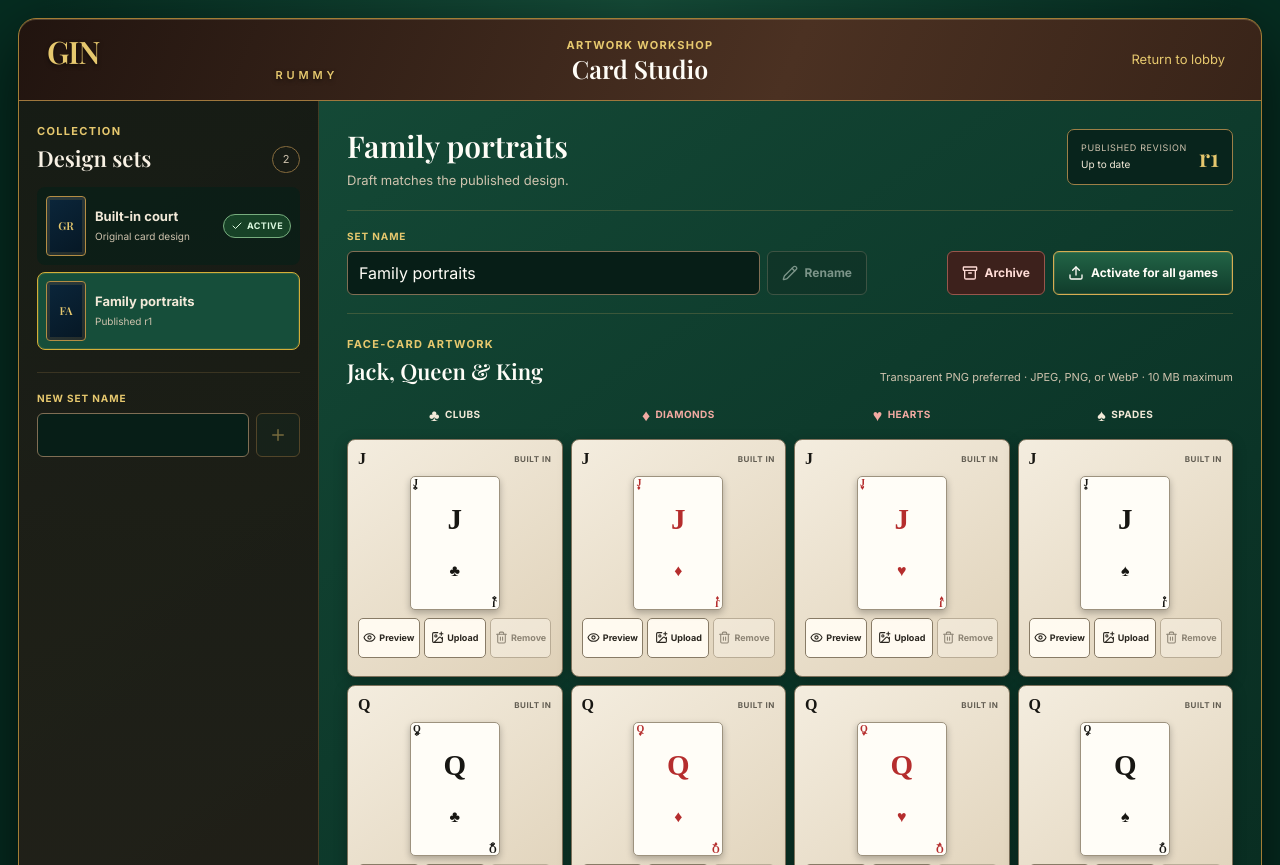
Test: CardStudio › keeps a failed create value available and succeeds on retry
Type "Sunday table" into the field labelled "New set name" at (143, 434), box [37,412,249,456]
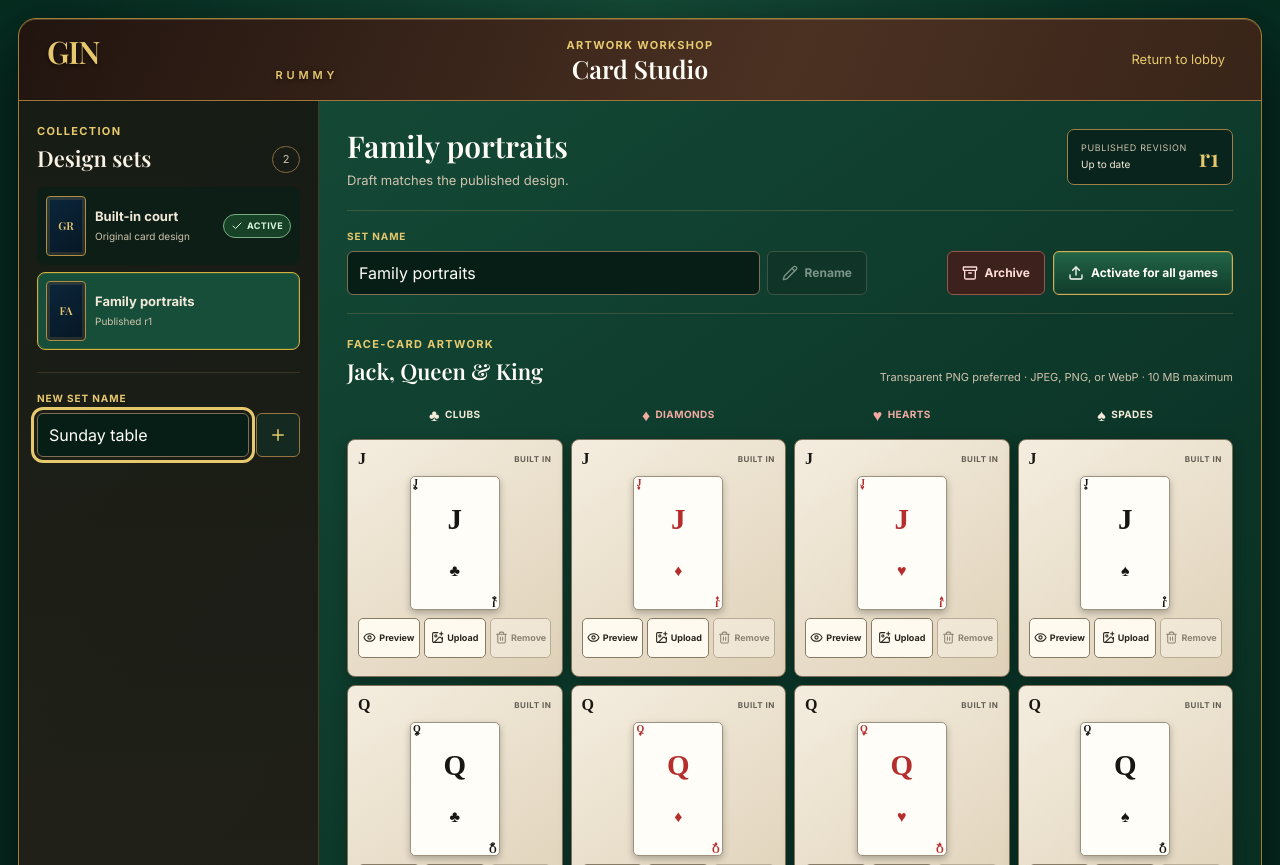
Click the button named "Create set" at (278, 434), box [256,412,300,456]
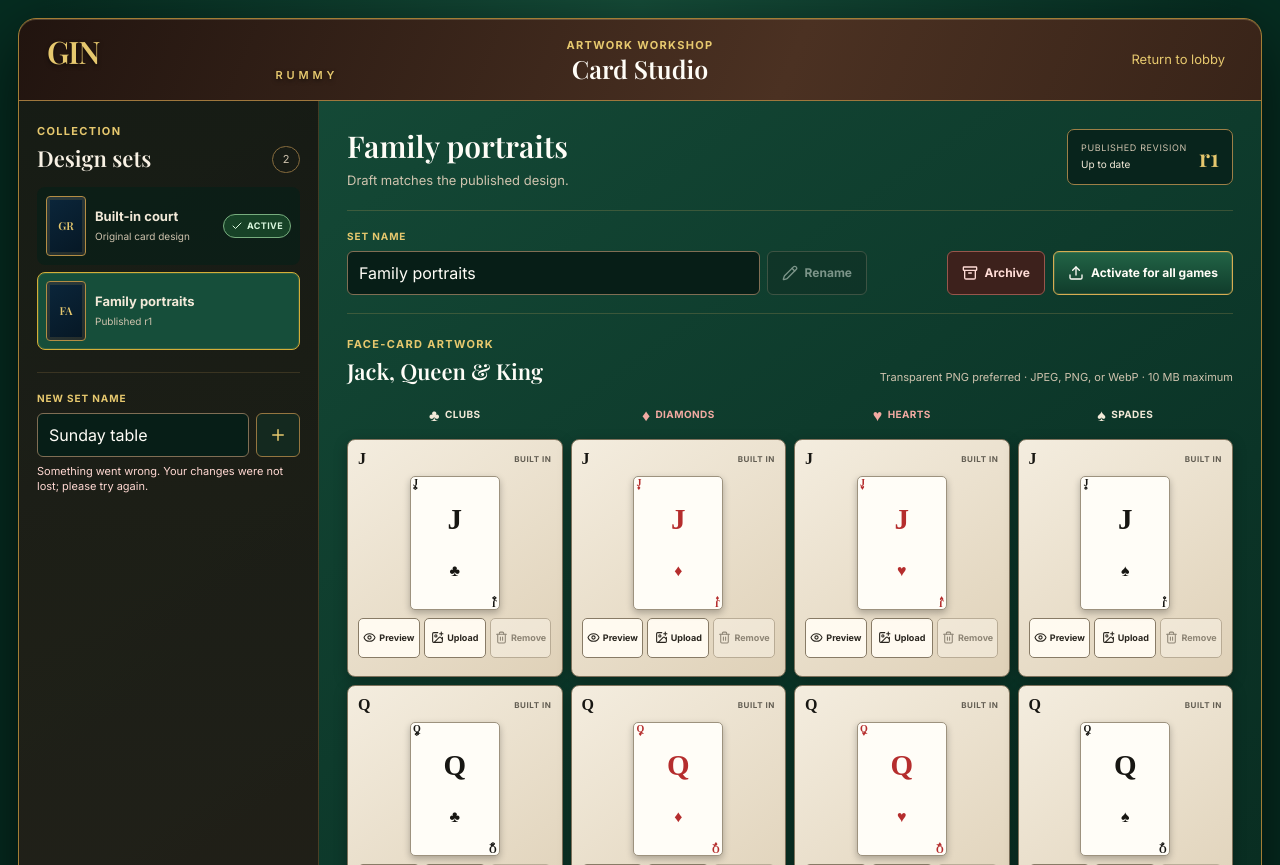
Expected: the message shows "Your changes were not lost", [37,464,283,493]
Click the button named "Create set" at (278, 434), box [256,412,300,456]
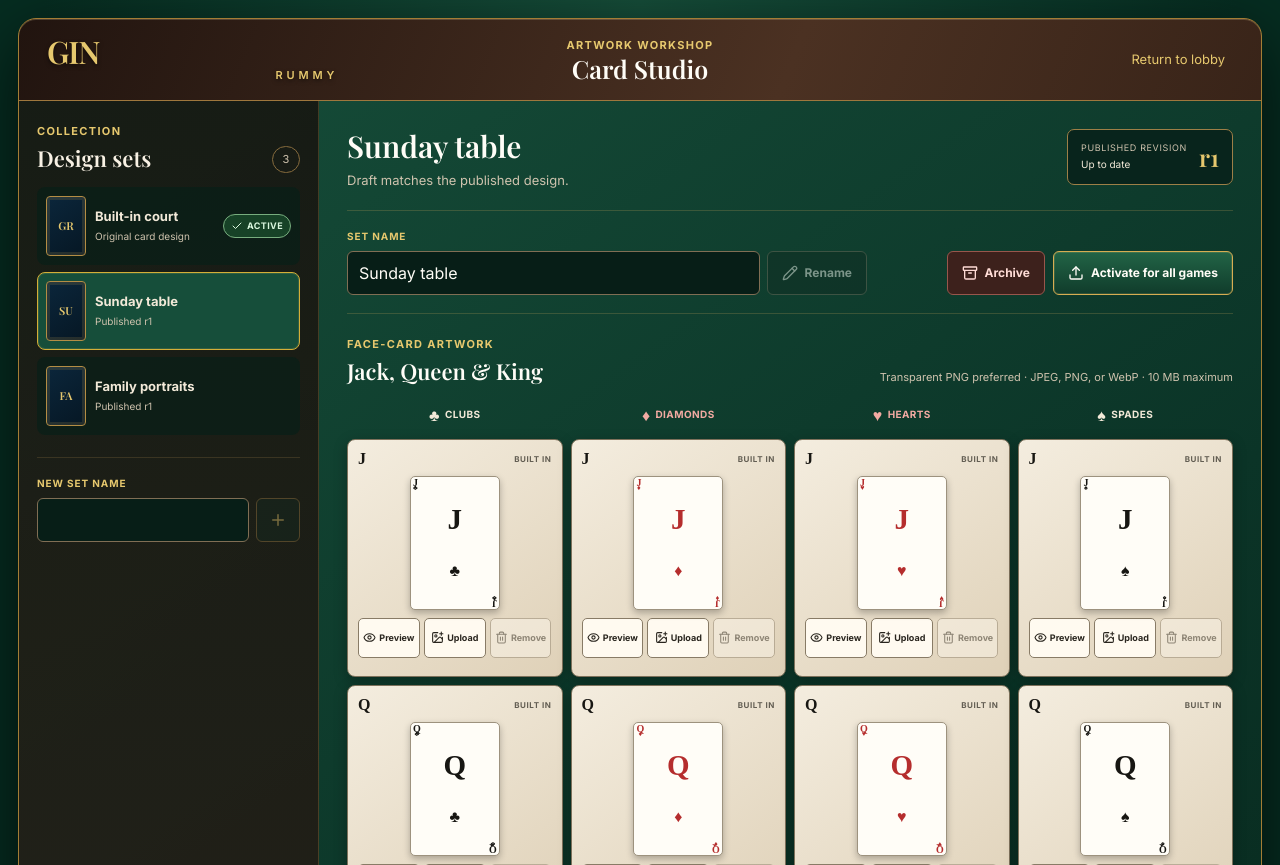
Expected: the field labelled "New set name" is empty, [37,498,249,542]
Expected: the heading "Sunday table" is shown, [347,129,521,164]
